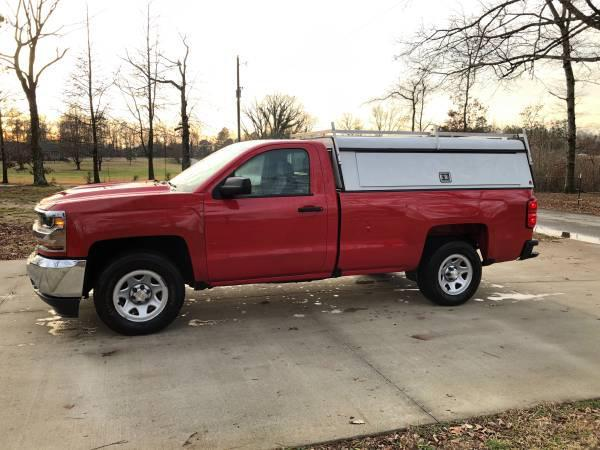Front_Bumper: (28, 249, 88, 317)
Front_Fender: (49, 193, 209, 282)
Front_Left_Door: (203, 190, 339, 283)
Front_Left_Window: (198, 141, 334, 196)
Front_Windshield: (165, 144, 252, 193)
Hood: (38, 179, 185, 211)
Left_Headlight: (32, 211, 65, 256)
Left_Taillight: (526, 198, 540, 229)
Rear_Fender: (339, 189, 533, 276)
Wheel: (94, 255, 185, 336), (420, 240, 483, 304)
